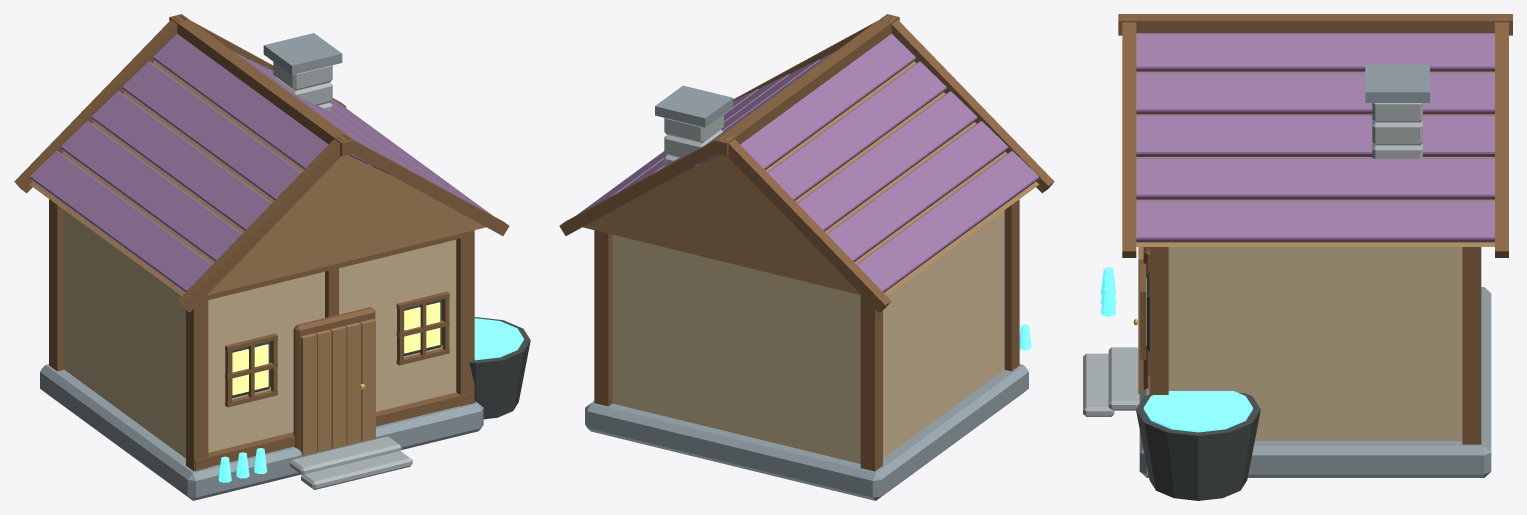
File: Alchemist.glb
3 renders of one model, left to right at view 1: azimuth 30°, elevation 25°; view 2: azimuth 150°, elevation 25°; view 3: azimuth 270°, elevation 25°, orthographic. The views are drawn at different scales.
Parts seen in each view (by area): view 1: PlasterWalls, Gable, StoneFoundation, Ridge, GableTrim, CornerPost, Cauldron, CornerPost.001, GableTrim.001, CrossTimber, CornerPost.002, GableTrim.002 (+46 smaller); view 2: PlasterWalls, Gable, StoneFoundation, Ridge, GableTrim.001, CornerPost.002, CornerPost.003, GableTrim, CornerPost, GableTrim.003, ChimneyCap, RoofShingle.014 (+32 smaller); view 3: PlasterWalls, StoneFoundation, Cauldron, Ridge, Gable, CornerPost.003, PotionSurface, GableTrim.002, GableTrim.003, CornerPost.001, RoofShingle.037, RoofShingle.057 (+34 smaller).
Boxes of the visible parts, x1=… form: PlasterWalls: x1=64, y1=210, x2=456, y2=458; Gable: x1=29, y1=61, x2=485, y2=295; StoneFoundation: x1=40, y1=364, x2=483, y2=500; Ridge: x1=169, y1=14, x2=354, y2=156; GableTrim: x1=177, y1=136, x2=343, y2=312; CornerPost: x1=186, y1=300, x2=208, y2=471; Cauldron: x1=469, y1=317, x2=530, y2=419; CornerPost.001: x1=456, y1=230, x2=474, y2=406; GableTrim.001: x1=14, y1=16, x2=180, y2=193; CrossTimber: x1=195, y1=392, x2=474, y2=470; CornerPost.002: x1=49, y1=199, x2=64, y2=371; GableTrim.002: x1=343, y1=134, x2=509, y2=235; PlasterWalls: x1=612, y1=210, x2=1004, y2=463; Gable: x1=583, y1=61, x2=1039, y2=295; StoneFoundation: x1=585, y1=364, x2=1028, y2=500; Ridge: x1=714, y1=14, x2=899, y2=156; GableTrim.001: x1=725, y1=136, x2=891, y2=312; CornerPost.002: x1=860, y1=295, x2=882, y2=471; CornerPost.003: x1=594, y1=230, x2=612, y2=406; GableTrim: x1=888, y1=16, x2=1054, y2=193; CornerPost: x1=1004, y1=199, x2=1019, y2=371; GableTrim.003: x1=559, y1=134, x2=725, y2=235; ChimneyCap: x1=655, y1=85, x2=733, y2=127; RoofShingle.014: x1=872, y1=129, x2=925, y2=178; PlasterWalls: x1=1168, y1=247, x2=1462, y2=440; StoneFoundation: x1=1139, y1=287, x2=1491, y2=477; Cauldron: x1=1136, y1=393, x2=1260, y2=500; Ridge: x1=1118, y1=14, x2=1512, y2=35; Gable: x1=1136, y1=71, x2=1494, y2=246; CornerPost.003: x1=1462, y1=247, x2=1481, y2=444; PotionSurface: x1=1143, y1=391, x2=1252, y2=432; GableTrim.002: x1=1122, y1=18, x2=1136, y2=257; GableTrim.003: x1=1495, y1=18, x2=1508, y2=257; CornerPost.001: x1=1150, y1=247, x2=1168, y2=396; RoofShingle.037: x1=1194, y1=72, x2=1255, y2=114; RoofShingle.057: x1=1315, y1=200, x2=1376, y2=242.
Bounding box in the file's own units: 12.61 × 10.79 × 11.
